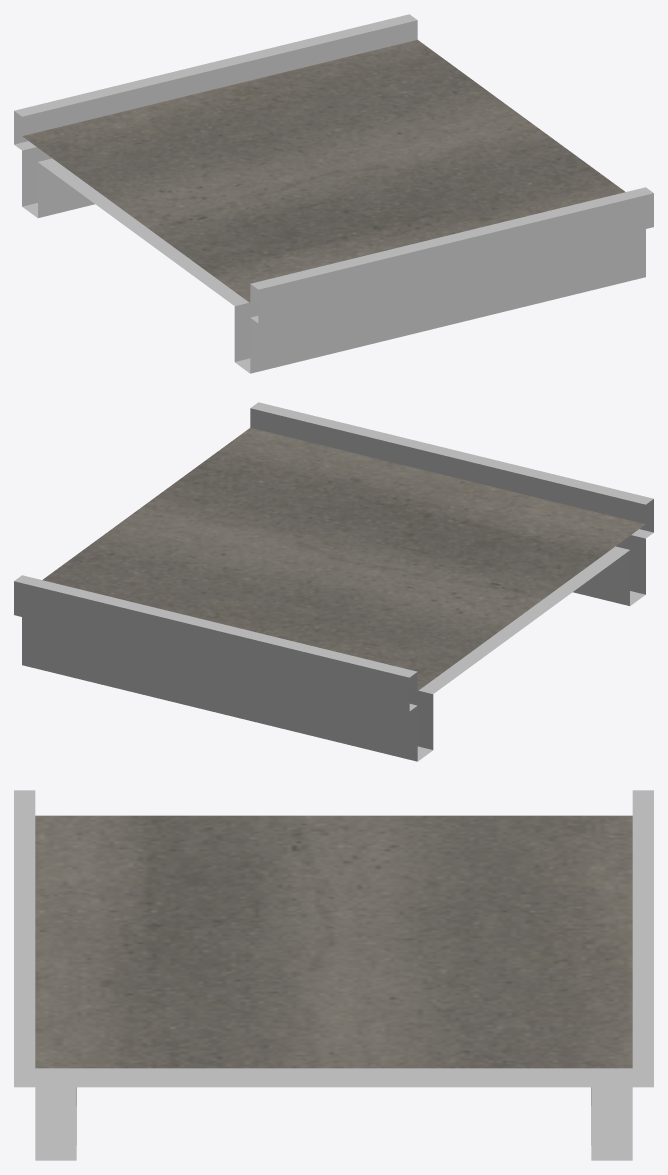
File: Urban_Road3BridgeSegmentNoSides_Model.fbx
3 views of the same model, one above another, from view 1: azimuth 30°, elevation 25°; view 2: azimuth 150°, elevation 25°; view 3: azimuth 270°, elevation 25° (orthographic). The views are drawn at different scales.
Visible parts, largest first — view 1: Urban_Road3BridgeSegmentNoSides_Mesh; view 2: Urban_Road3BridgeSegmentNoSides_Mesh; view 3: Urban_Road3BridgeSegmentNoSides_Mesh.
Part boxes in pixels (left/top/right/bottom): Urban_Road3BridgeSegmentNoSides_Mesh: left=14, top=14, right=653, bottom=373; Urban_Road3BridgeSegmentNoSides_Mesh: left=14, top=402, right=653, bottom=761; Urban_Road3BridgeSegmentNoSides_Mesh: left=14, top=790, right=653, bottom=1160.
Size of the model in its own units: 16 by 3.48 by 17.13.
